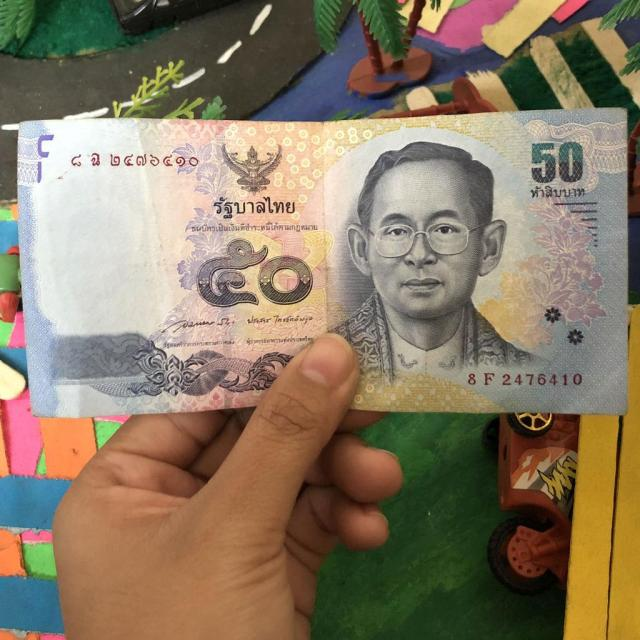THAI50: (16, 109, 628, 421)
